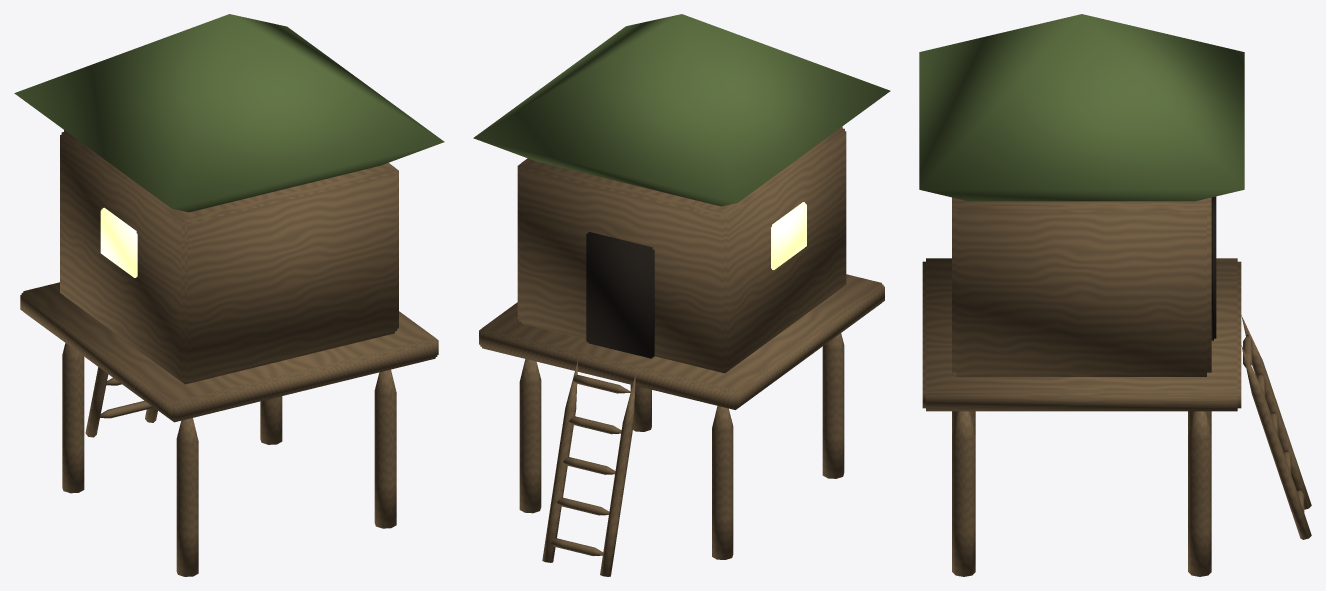
Rendered from StiltHut.fbx.
The picture shows the model from 3 angles, left to right: view 1: azimuth 30°, elevation 25°; view 2: azimuth 150°, elevation 25°; view 3: azimuth 270°, elevation 25°; orthographic projection. The views are drawn at different scales.
Parts seen in each view (by area): view 1: StiltHut, StiltHut_Glow; view 2: StiltHut, StiltHut_Glow; view 3: StiltHut.
Part boxes in pixels (box(x1,y1,x2,y2)): StiltHut: box(14, 14, 444, 576); StiltHut_Glow: box(100, 207, 137, 277); StiltHut: box(473, 14, 890, 576); StiltHut_Glow: box(771, 202, 806, 269); StiltHut: box(919, 14, 1311, 576).
Bounding box in the file's own units: 276 × 476 × 333.
2 materials, 1 textured.
